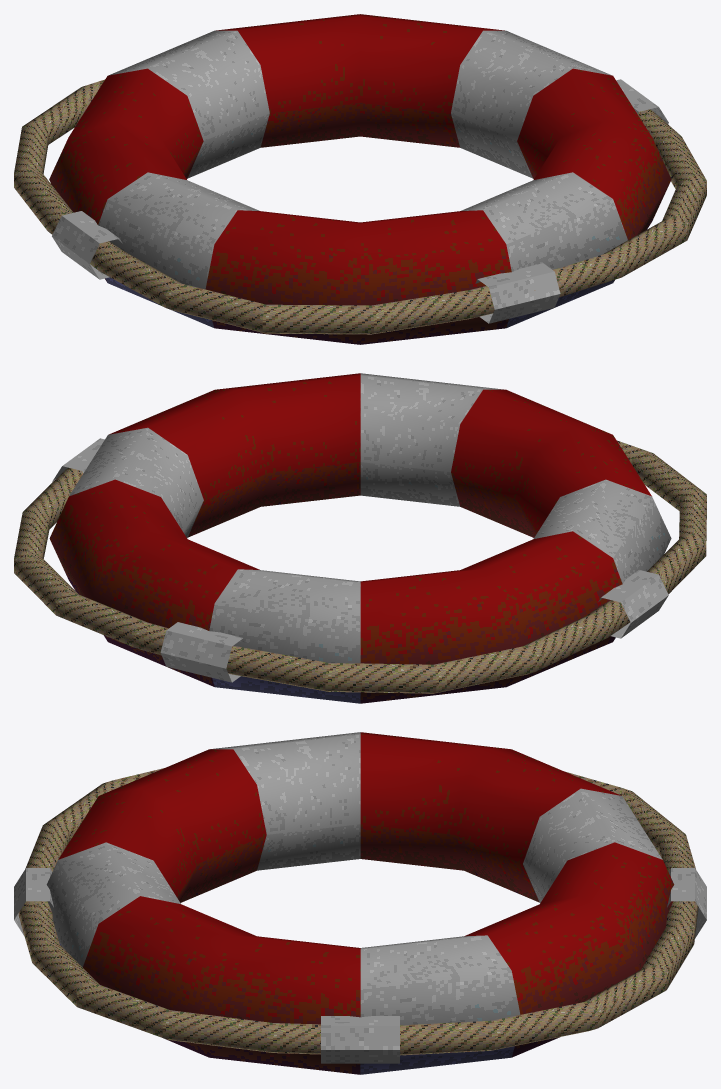
Rendered from Life saver.glb.
The picture shows the model from 3 angles, top to bottom: view 1: azimuth 30°, elevation 25°; view 2: azimuth 150°, elevation 25°; view 3: azimuth 270°, elevation 25°; orthographic projection. The views are drawn at different scales.
Visible parts, largest first — view 1: Torus.001, Cylinder.001, Cylinder.002, Cylinder.005, Cylinder.004; view 2: Torus.001, Cylinder.001, Cylinder.003, Cylinder.005, Cylinder.004; view 3: Torus.001, Cylinder.001, Cylinder.004, Cylinder.003, Cylinder.002.
Part boxes in pixels (x1=…): Torus.001: x1=49, y1=14, x2=671, y2=344; Cylinder.001: x1=14, y1=79, x2=706, y2=334; Cylinder.002: x1=475, y1=263, x2=560, y2=323; Cylinder.005: x1=52, y1=211, x2=122, y2=279; Cylinder.004: x1=616, y1=79, x2=668, y2=123; Torus.001: x1=49, y1=373, x2=671, y2=703; Cylinder.001: x1=14, y1=440, x2=706, y2=693; Cylinder.003: x1=160, y1=622, x2=245, y2=682; Cylinder.005: x1=598, y1=570, x2=668, y2=638; Cylinder.004: x1=52, y1=438, x2=104, y2=481; Torus.001: x1=46, y1=732, x2=674, y2=1074; Cylinder.001: x1=18, y1=768, x2=698, y2=1055; Cylinder.004: x1=321, y1=1016, x2=399, y2=1063; Cylinder.003: x1=667, y1=868, x2=706, y2=938; Cylinder.002: x1=14, y1=868, x2=53, y2=935.
Size of the model in its own units: 2.72 by 0.5295 by 2.72.
Materials: 2 (2 with a texture image).
